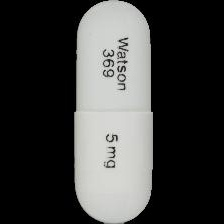58118-0364: (0, 0, 224, 224)
